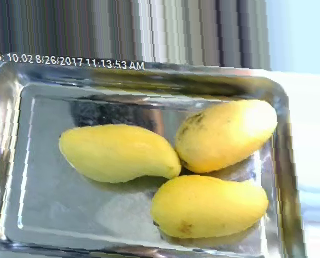Mango: (142, 170, 274, 244), (167, 92, 283, 174), (55, 114, 185, 186)
